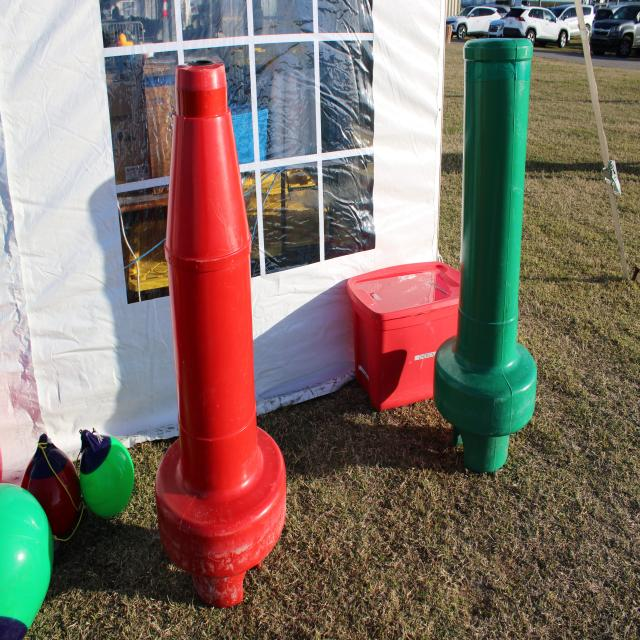green-buoy: (0, 468, 73, 636), (72, 421, 136, 524)
green-column-buoy: (438, 38, 543, 410)
red-column-buoy: (149, 63, 291, 605)
